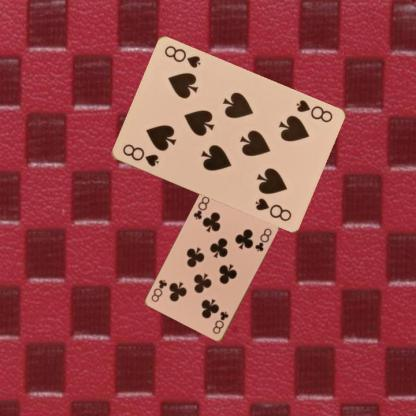8c: (210, 308, 230, 336), (191, 194, 211, 222)
8s: (292, 97, 334, 124), (120, 141, 160, 168)
